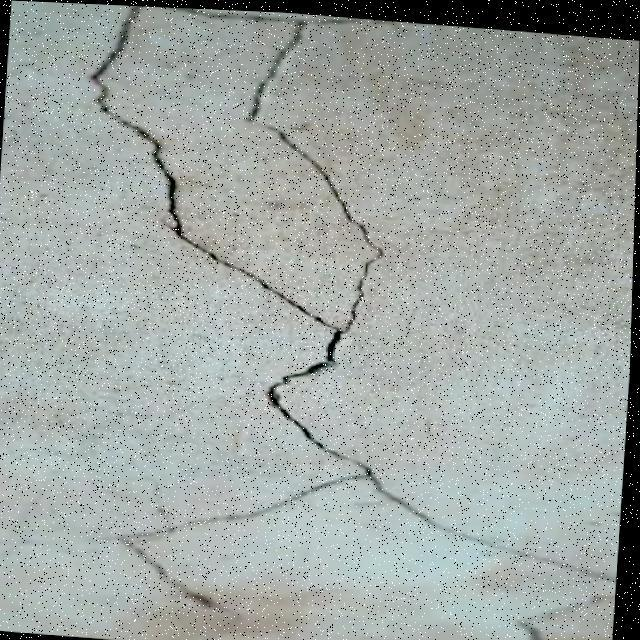branched cracks: (89, 5, 613, 608), (513, 594, 602, 639)
